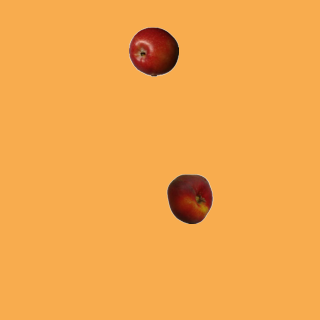Apple Braeburn: (128, 26, 178, 76)
Nectarine Flat: (164, 173, 214, 223)
